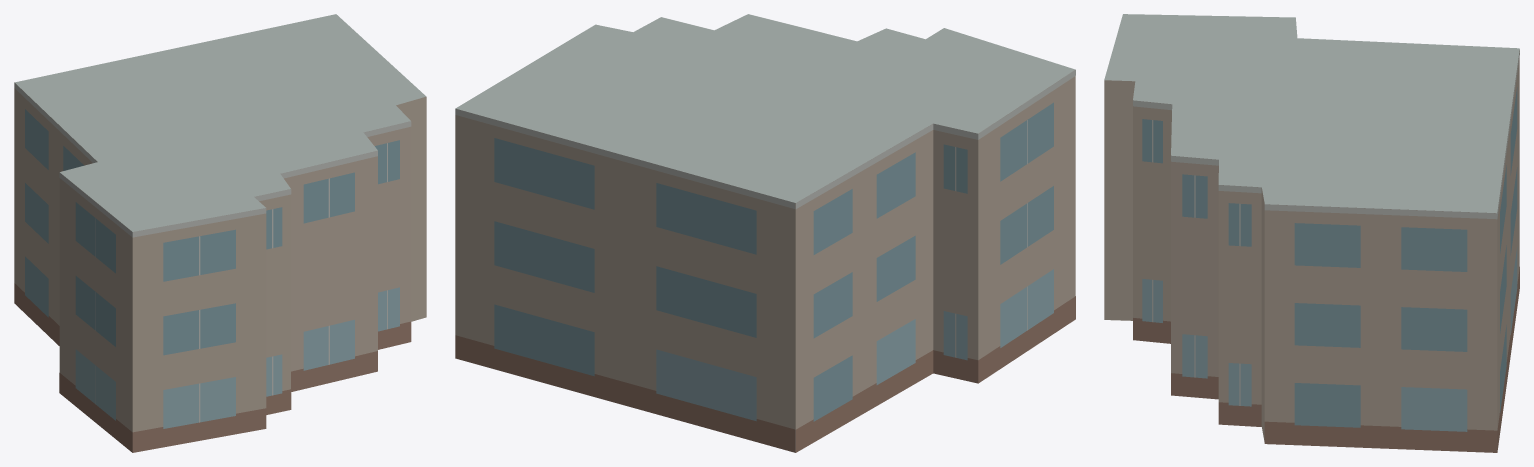
Rendered from survey-upis-32501648.glb.
The picture shows the model from 3 angles, left to right: view 1: azimuth 30°, elevation 25°; view 2: azimuth 150°, elevation 25°; view 3: azimuth 270°, elevation 25°; orthographic projection. The views are drawn at different scales.
Visible parts, largest first — view 1: survey-upis-32501648.tmp; view 2: survey-upis-32501648.tmp; view 3: survey-upis-32501648.tmp.
Part boxes in pixels (box(x1,y1,x2,y2)): survey-upis-32501648.tmp: box(14, 14, 426, 452); survey-upis-32501648.tmp: box(455, 14, 1075, 452); survey-upis-32501648.tmp: box(1104, 14, 1519, 452).
Bounding box in the file's own units: 17.29 × 9.7 × 15.26.
